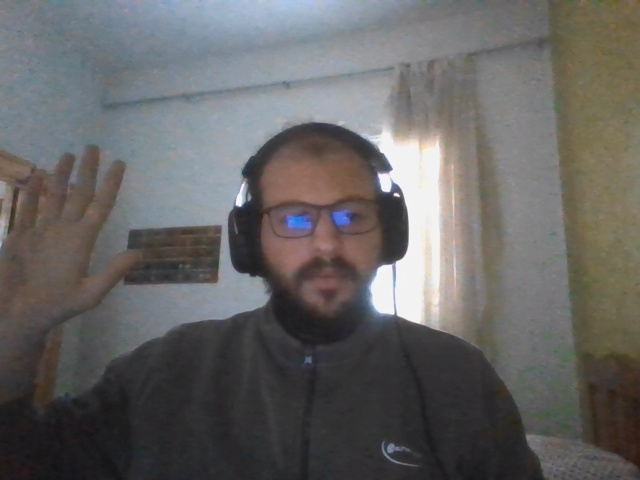Hello: (1, 144, 143, 326)
